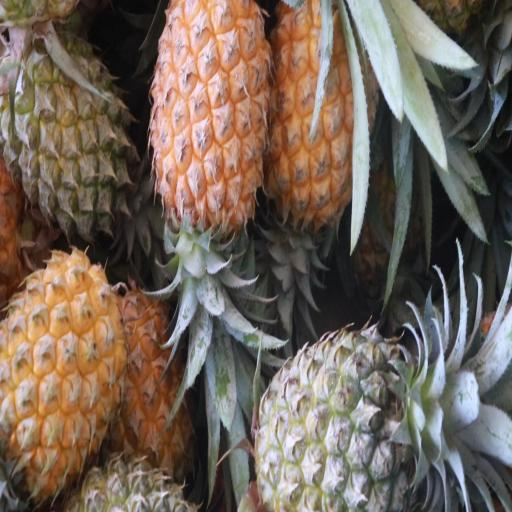------------------------------: (4, 25, 131, 227)
Pineapple - v8 v1: (0, 256, 122, 510), (153, 0, 268, 221), (270, 3, 384, 217), (116, 285, 194, 478)
